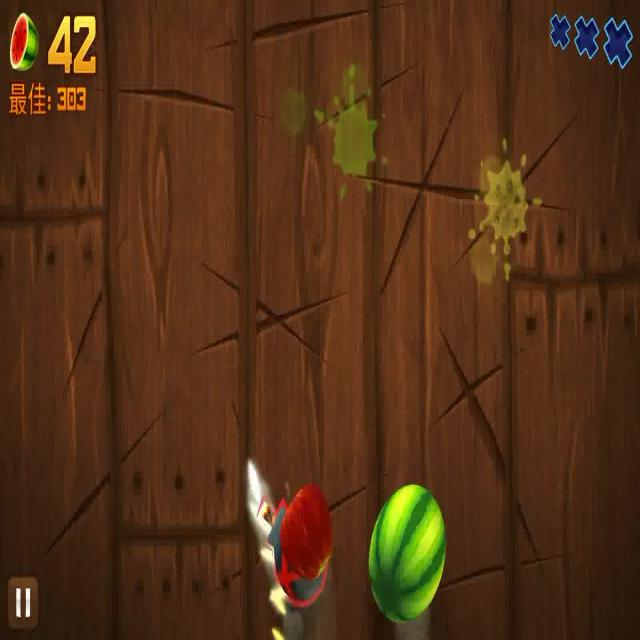bomb: (246, 503, 326, 615)
fruit: (366, 476, 446, 622), (284, 469, 334, 569)
